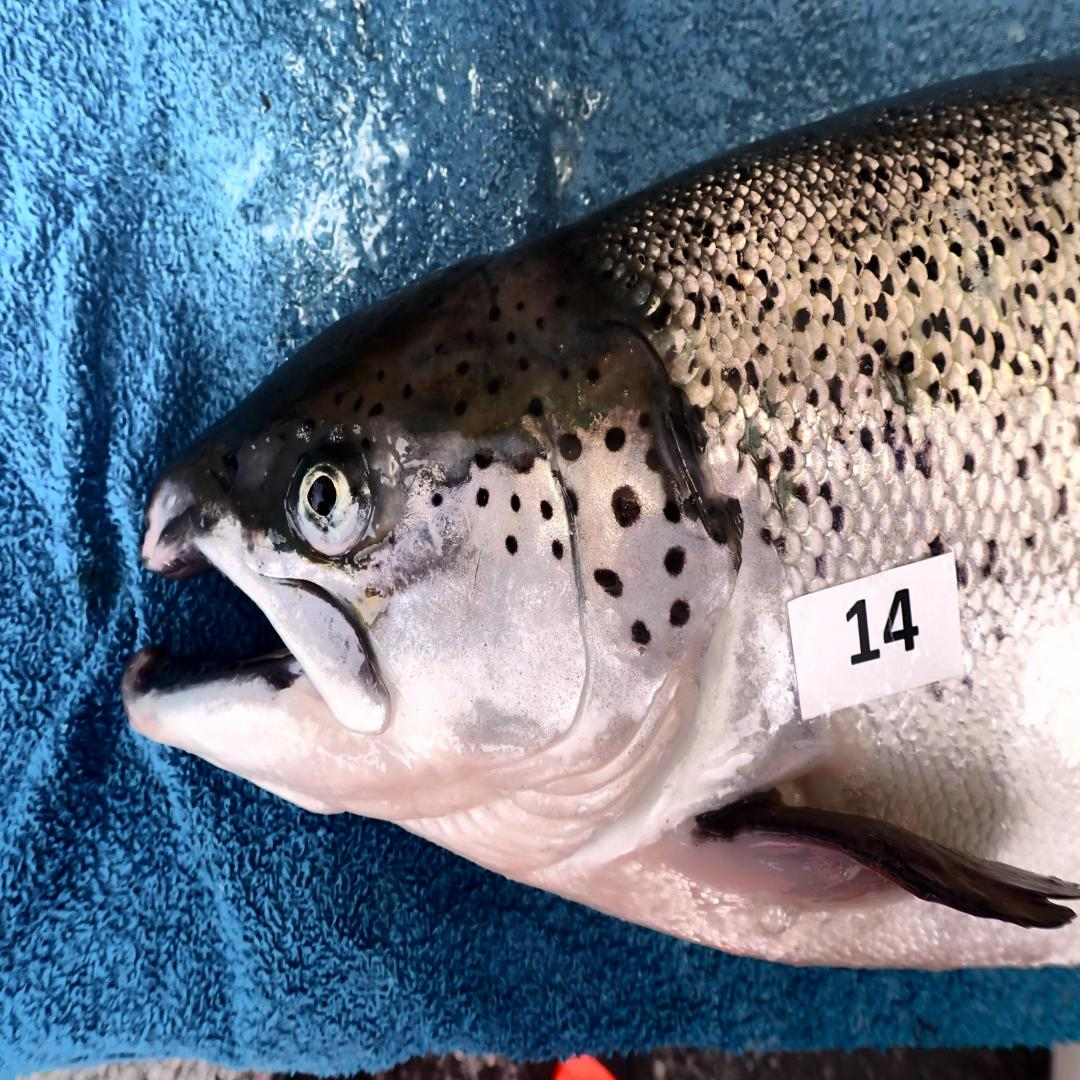spot: (612, 487, 641, 529), (595, 568, 622, 596), (664, 546, 686, 577), (559, 433, 582, 461), (508, 450, 536, 472), (669, 599, 690, 627), (605, 428, 624, 453), (631, 619, 650, 644), (645, 447, 664, 472), (681, 495, 698, 520), (565, 487, 578, 518), (475, 450, 494, 470), (664, 501, 681, 523), (540, 501, 553, 520), (506, 534, 517, 554), (477, 489, 489, 506), (553, 540, 563, 560), (510, 495, 521, 512), (430, 492, 443, 506), (387, 531, 395, 544)
